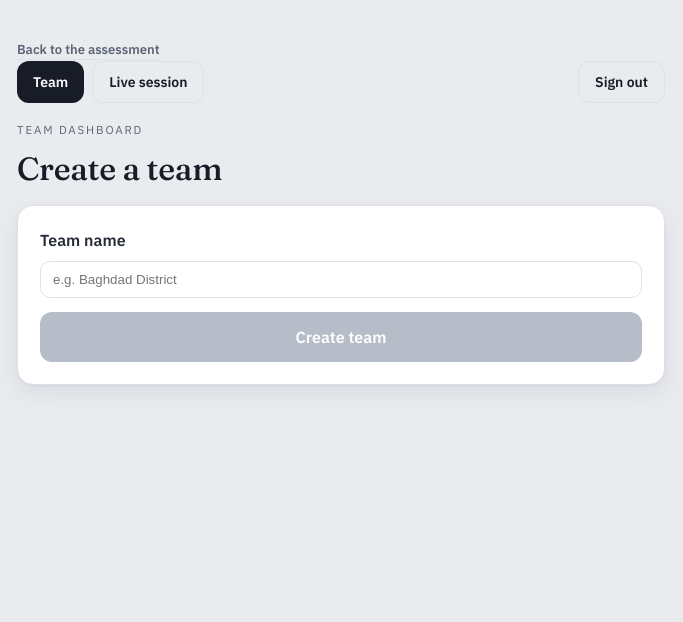
Test case: ManagerApp session tab › refreshes the session summary and computes the imbalance flag
Click the button "Live session" at [148, 82], box left=92, top=61, right=204, bottom=103
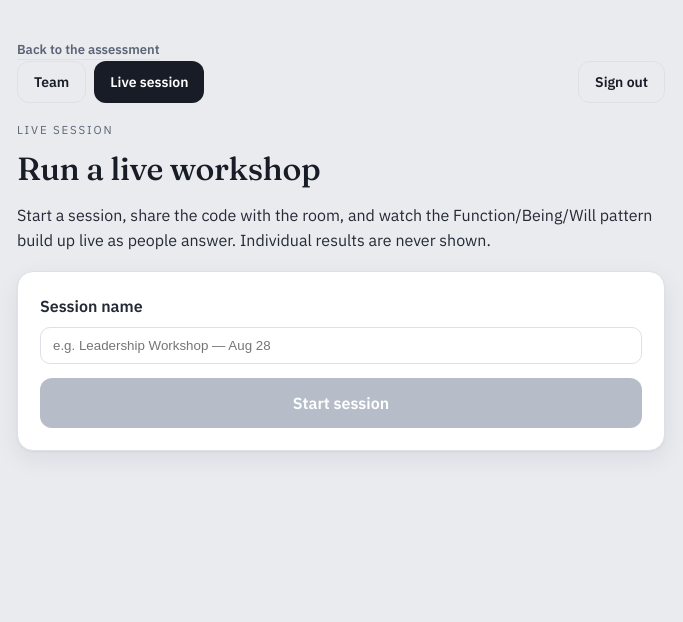
Type "Workshop A" into the field with placeholder "e.g. Leadership Workshop — Aug 28" at [341, 345], box left=40, top=327, right=642, bottom=364
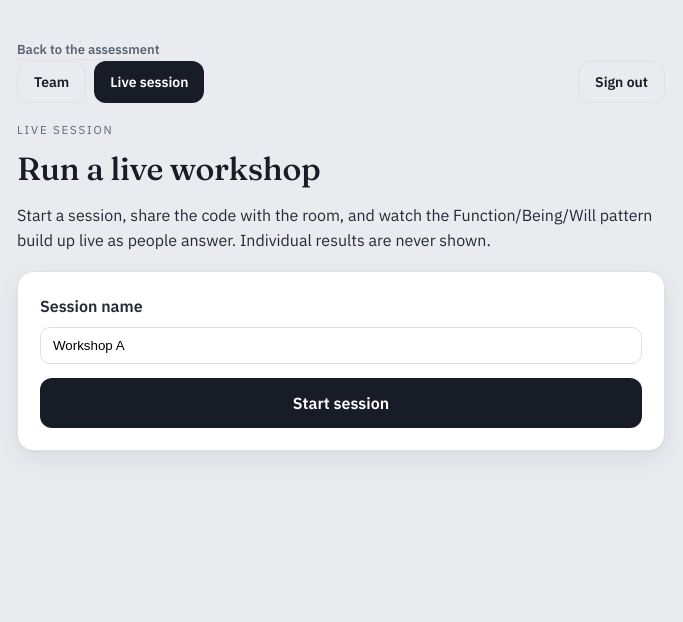
Click the button "Start session" at [341, 403], box left=40, top=378, right=642, bottom=428
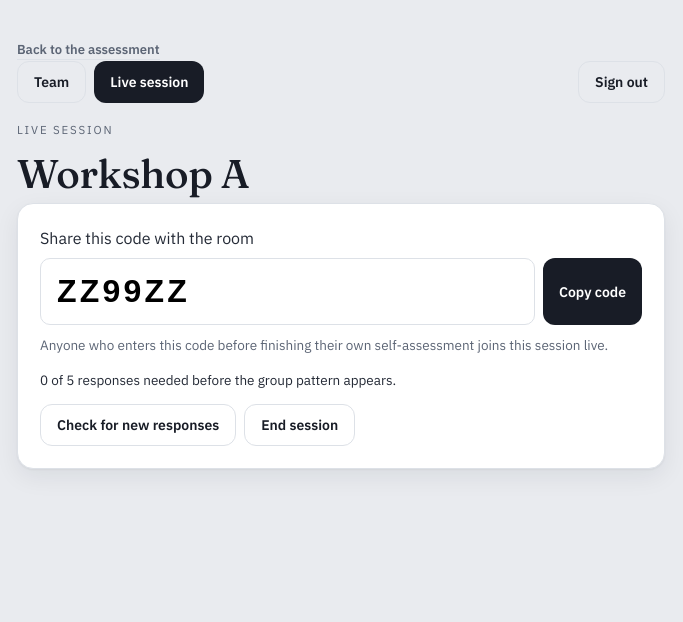
Check: the field showing "ZZ99ZZ" is shown, box left=40, top=258, right=535, bottom=325
Click the button "Check for new responses" at [138, 425], box left=40, top=404, right=236, bottom=446
(page scrolled)
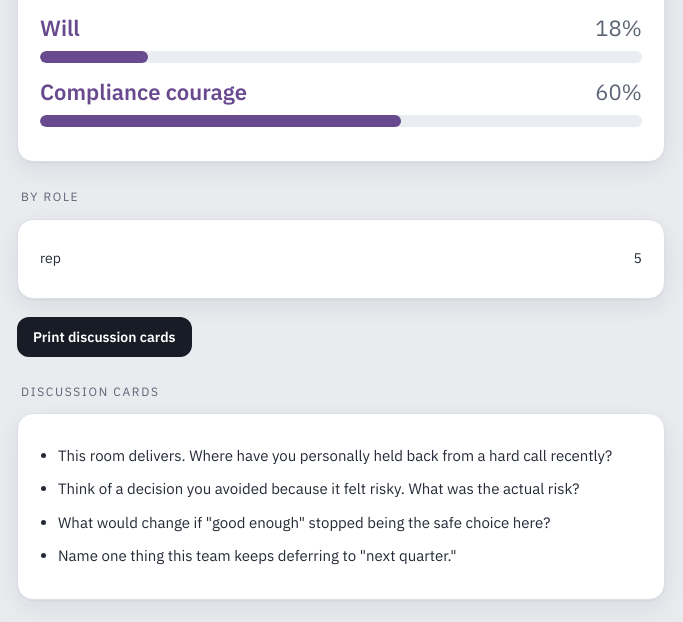
Check: the list item "This room delivers. Where have you personally held back from a hard call recently?" is shown, box left=58, top=446, right=612, bottom=465
